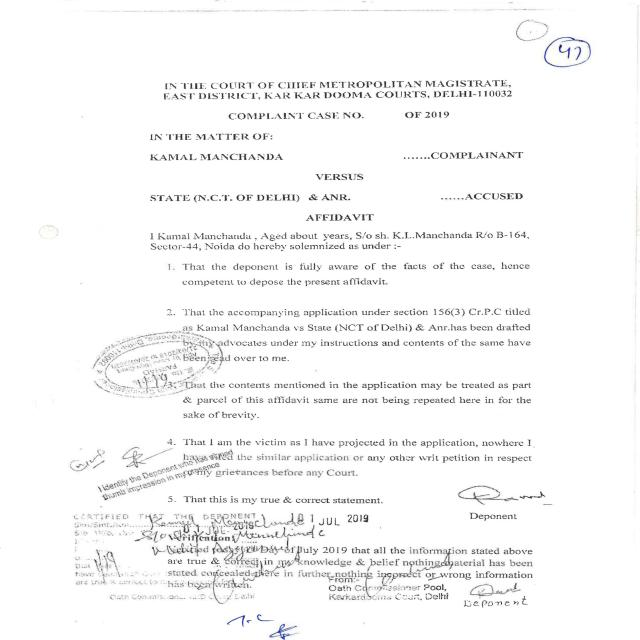page-number: (524, 33, 637, 174)
